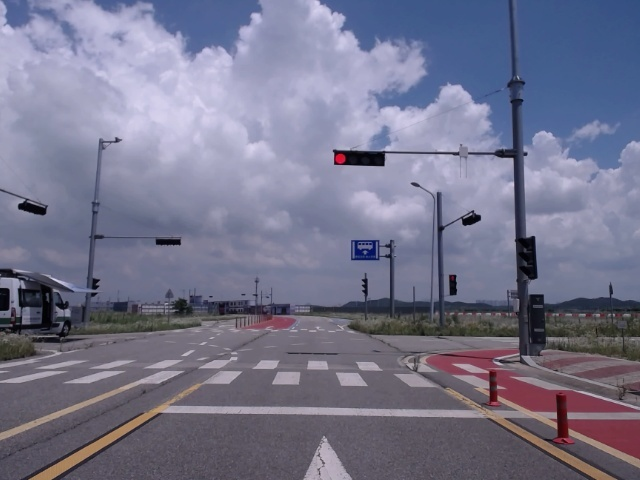red_4: (334, 152, 385, 167)
